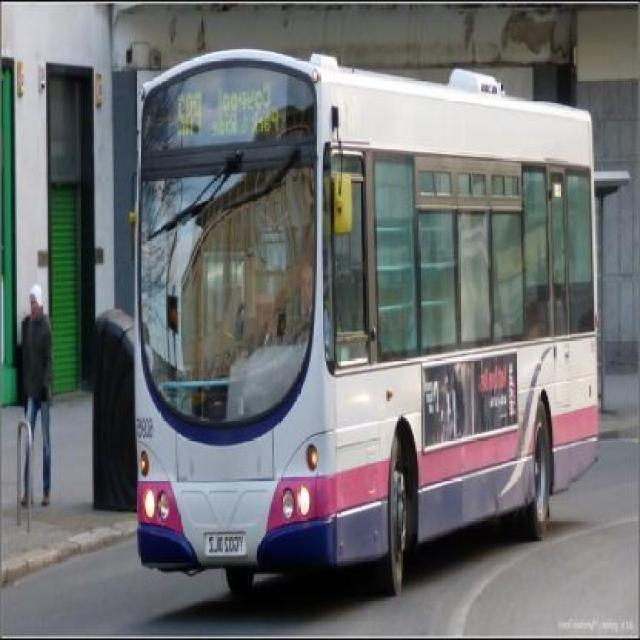Bus: (143, 75, 579, 522)
